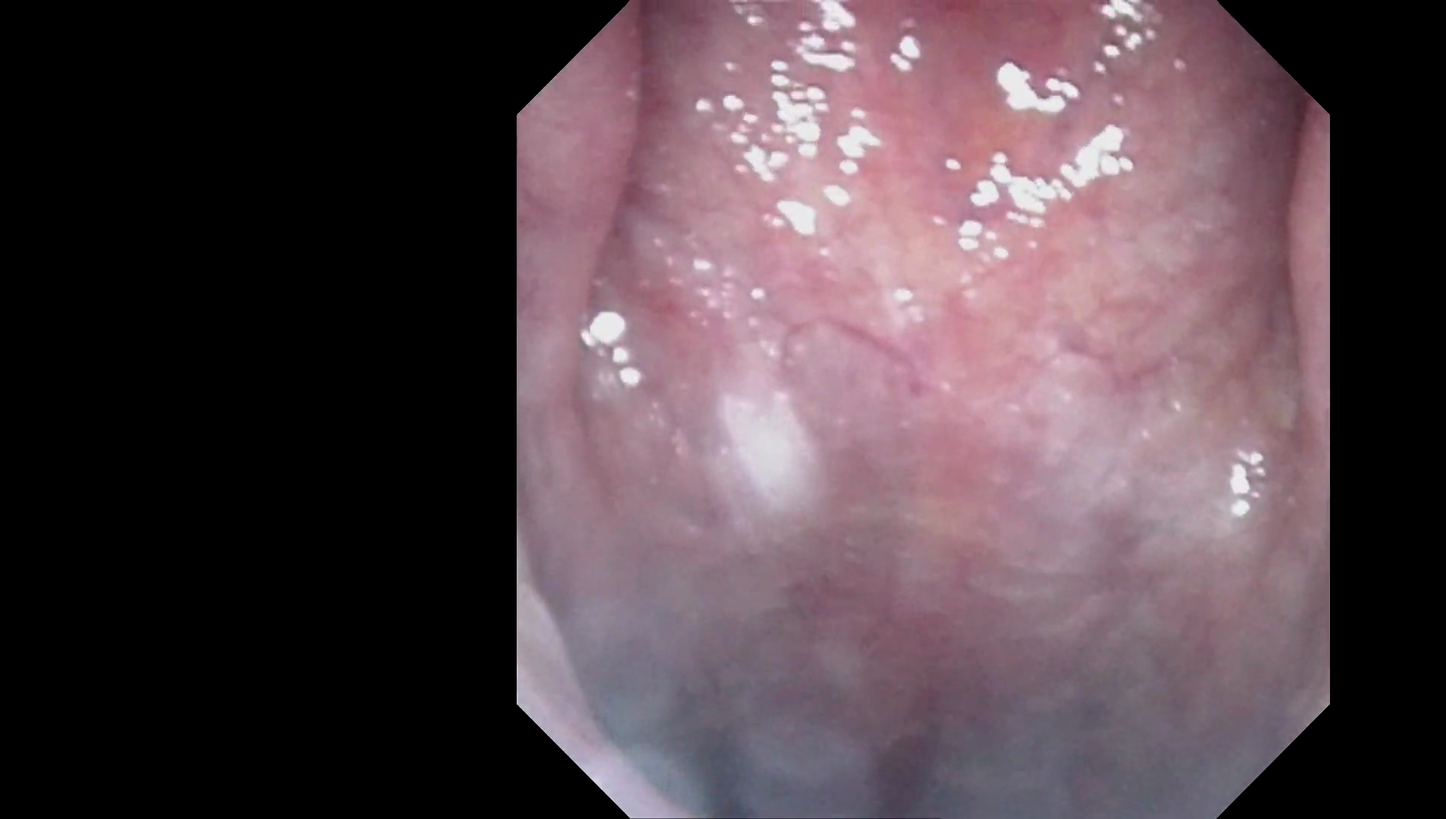next: (596, 686, 967, 808)
